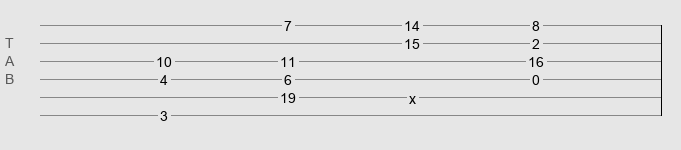0: (532, 72, 540, 82)
10: (156, 54, 172, 64)
11: (280, 54, 296, 64)
14: (404, 18, 420, 28)
15: (404, 36, 420, 46)
16: (528, 54, 544, 64)
19: (280, 90, 296, 100)
2: (532, 36, 540, 46)
3: (160, 108, 168, 118)
4: (160, 72, 168, 82)
6: (284, 72, 292, 82)
7: (284, 18, 292, 28)
8: (532, 18, 540, 28)
x: (409, 91, 416, 99)
